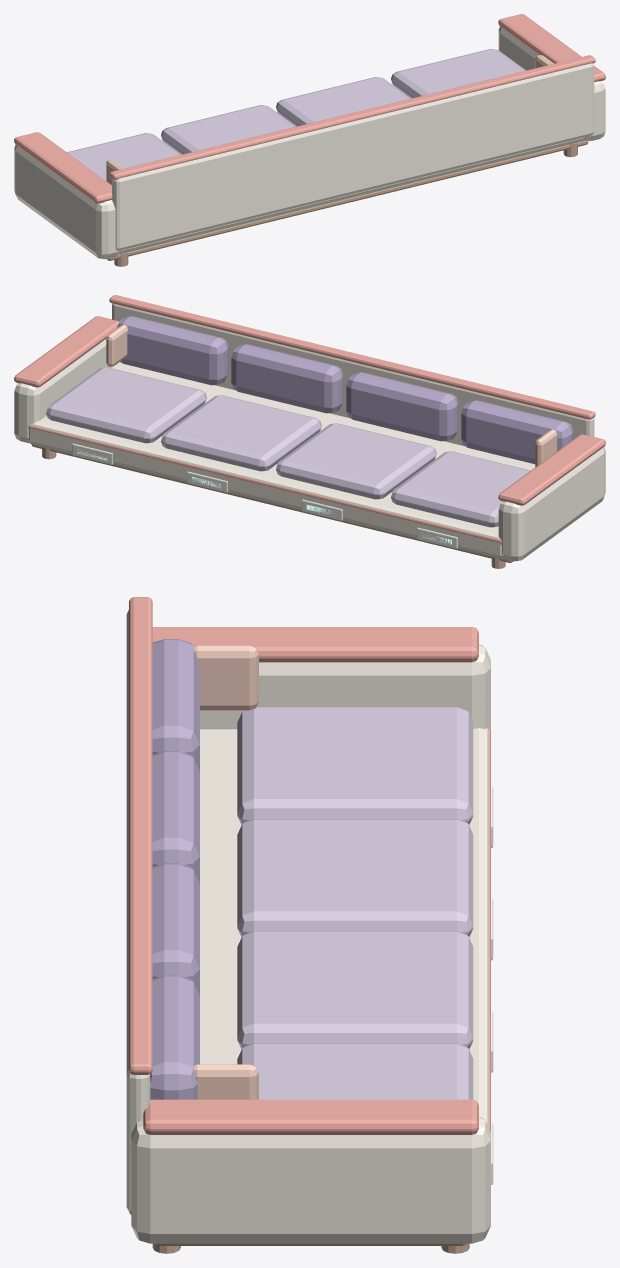
The model's file is waiting-benches.glb.
The picture shows the model from 3 angles, top to bottom: view 1: azimuth 30°, elevation 25°; view 2: azimuth 150°, elevation 25°; view 3: azimuth 270°, elevation 25°; orthographic projection. The views are drawn at different scales.
Visible parts, largest first — view 1: SofaFrame, SofaLavender, SofaPiping, SofaLeg, SofaPillow; view 2: SofaFrame, SofaLavender, SofaLavenderDeep, SofaPiping, SofaPlate, SofaLeg, SofaPillow; view 3: SofaLavender, SofaFrame, SofaPiping, SofaLavenderDeep, SofaPillow, SofaLeg.
Part boxes in pixels (left/top/right/bottom): SofaFrame: left=14, top=27, right=605, bottom=259; SofaLavender: left=67, top=49, right=525, bottom=180; SofaPiping: left=14, top=14, right=605, bottom=203; SofaLeg: left=107, top=140, right=588, bottom=266; SofaPillow: left=106, top=55, right=553, bottom=184; SofaFrame: left=14, top=303, right=605, bottom=561; SofaLavender: left=46, top=367, right=530, bottom=527; SofaLavenderDeep: left=117, top=316, right=573, bottom=464; SofaPiping: left=14, top=295, right=605, bottom=544; SofaPlate: left=72, top=443, right=457, bottom=548; SofaLeg: left=31, top=444, right=512, bottom=568; SofaPillow: left=106, top=325, right=557, bottom=466; SofaLavender: left=237, top=707, right=473, bottom=1099; SofaFrame: left=126, top=610, right=490, bottom=1243; SofaPiping: left=129, top=597, right=490, bottom=1134; SofaLavenderDeep: left=150, top=639, right=199, bottom=1099; SofaPillow: left=193, top=645, right=258, bottom=1099; SofaLeg: left=152, top=1243, right=469, bottom=1253.
Size of the model in its own units: 5 by 0.925 by 1.55.
